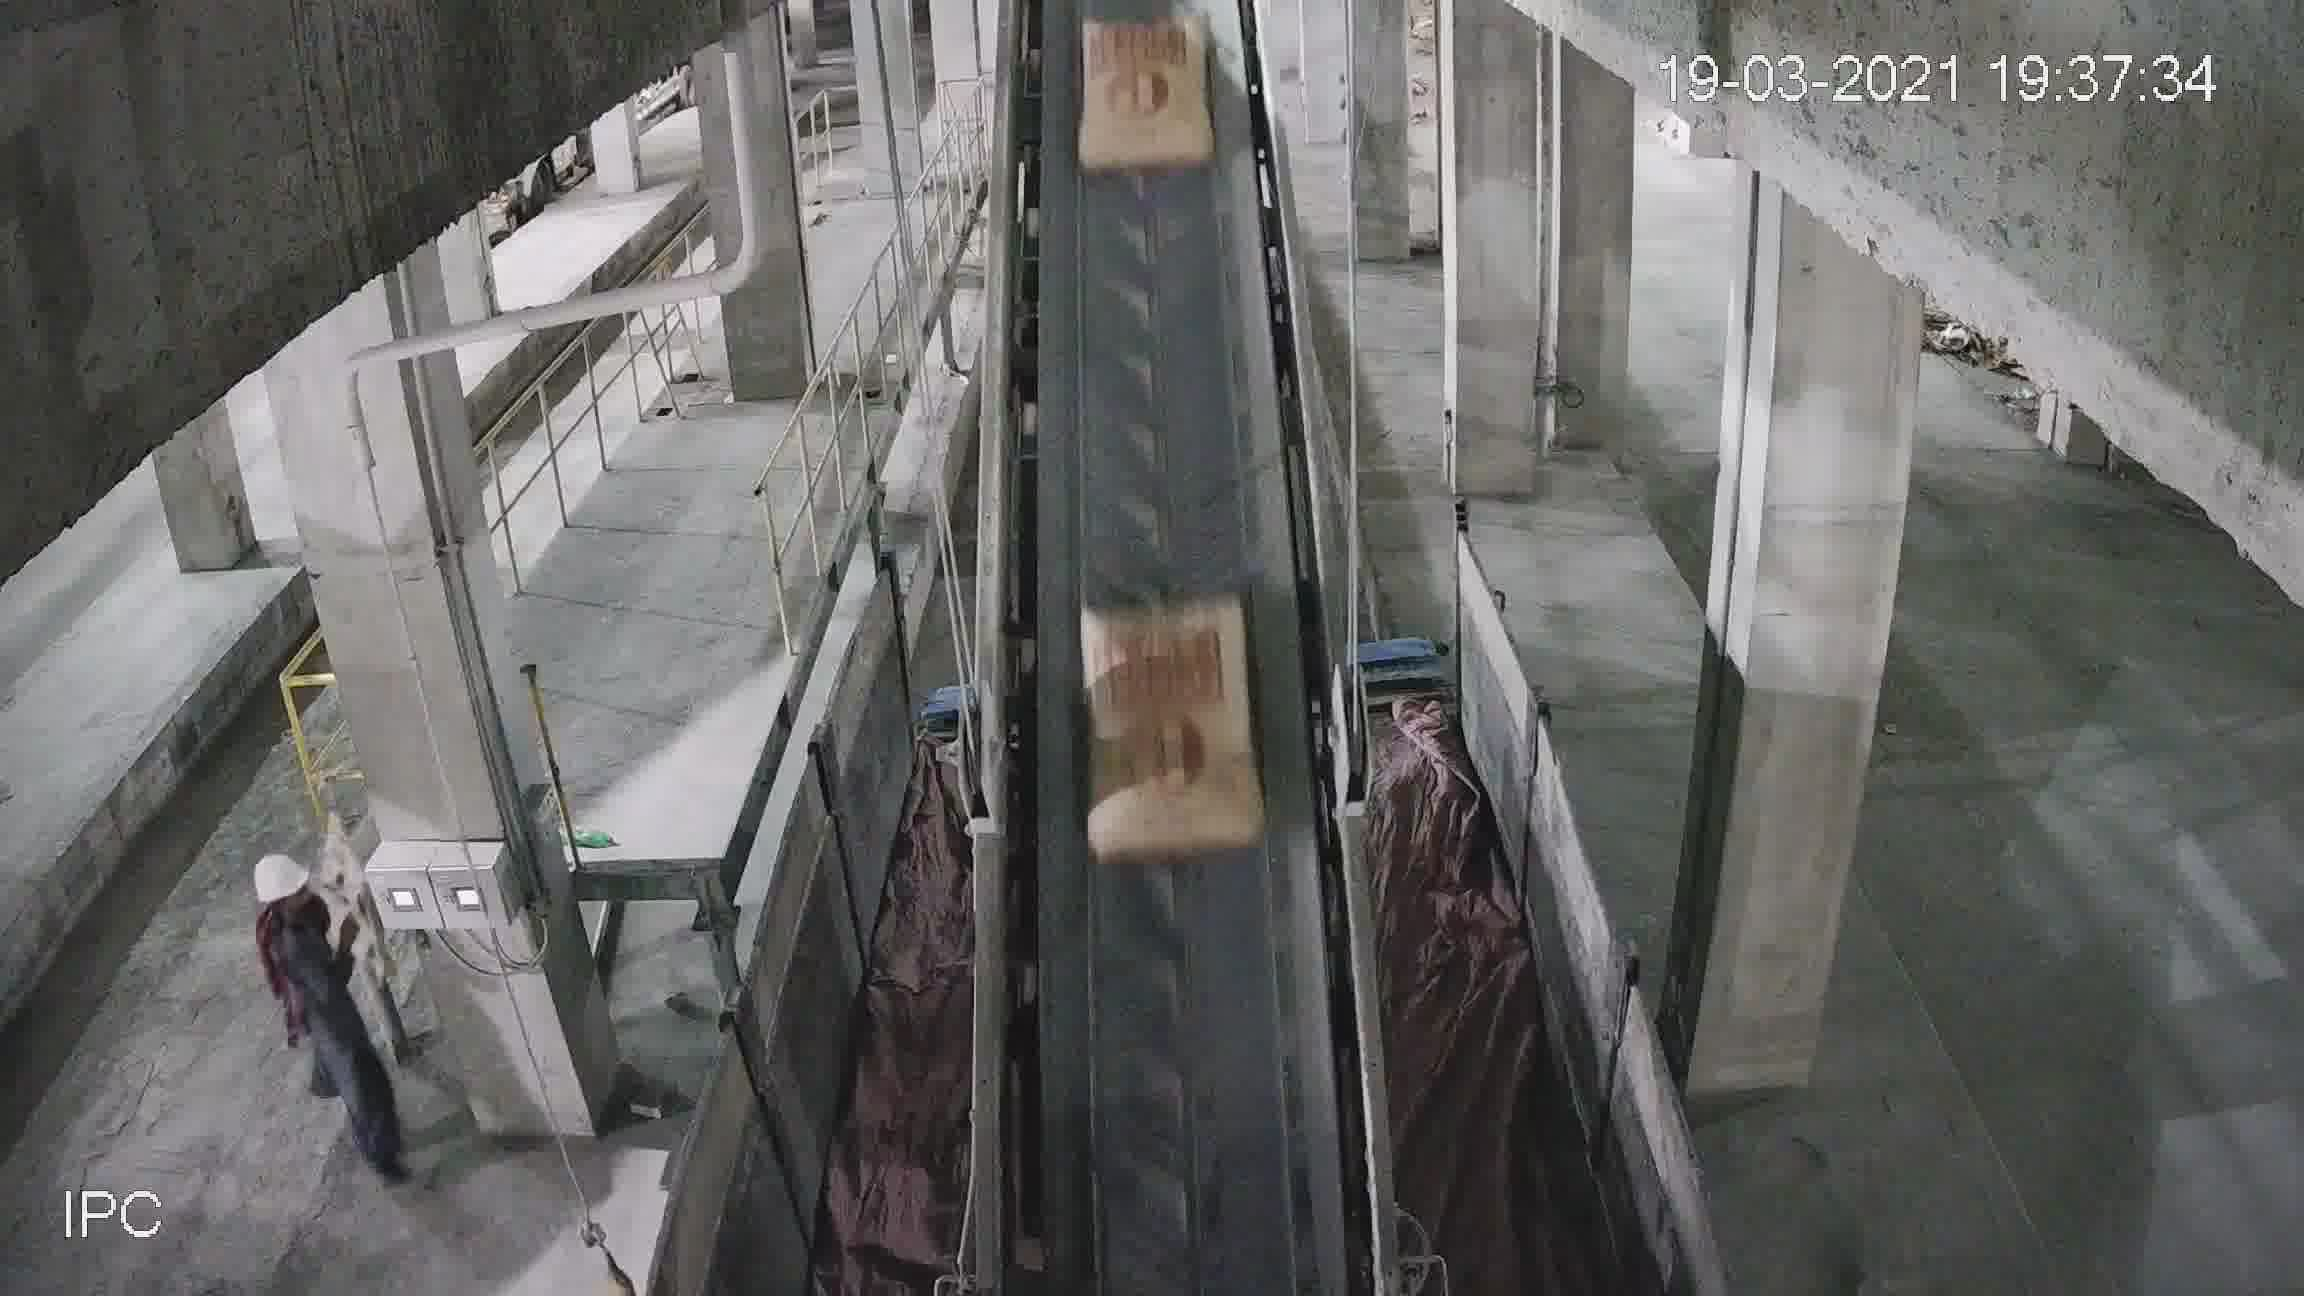bag: (1082, 593, 1261, 858), (1076, 17, 1217, 161)
belt: (980, 63, 1353, 1144)
